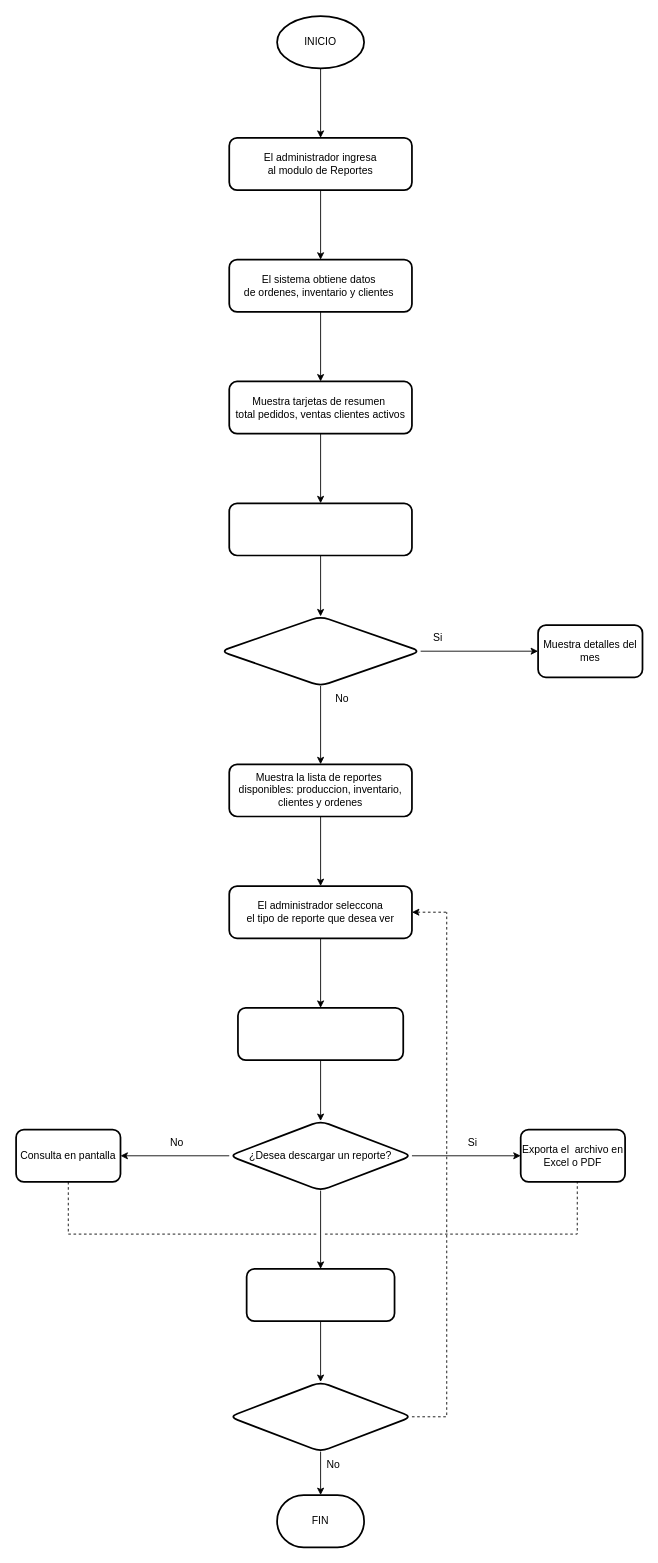
Some shapes in this 658 by 1563 pixel diagram are drawn without their labels. The centre of each missing label's shape, as x and y in pixels:
"El sistema confirma la accion y mantiene la vista activa" belongs at (x=320, y=1295).
"El sistema filtra y muestra solo los reportes del tipo seleccionado" belongs at (x=320, y=1034).
"Muestra grafico de barras pedidos por mes (ultimos 6 meses)" belongs at (x=320, y=529).
"¿Desea consultar otro reporte?" belongs at (x=320, y=1416).
"¿Pasa el cursor por una barra?" belongs at (x=320, y=650).
